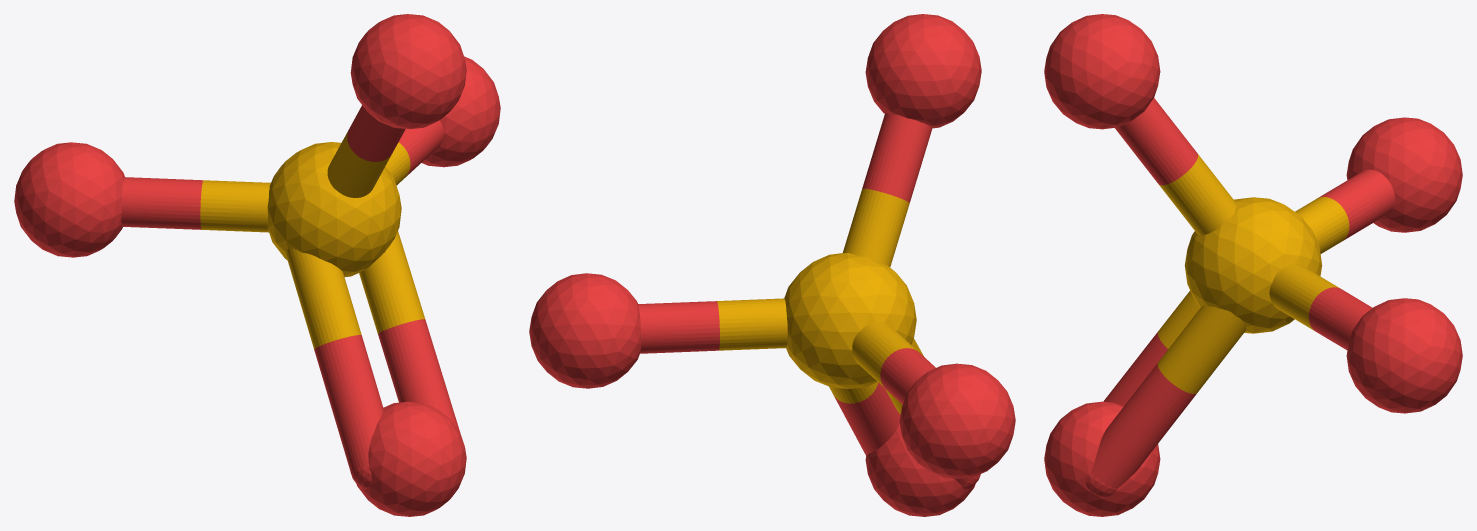
Rendered from phosphate.fbx.
3 views of the same model, side by side, from view 1: azimuth 30°, elevation 25°; view 2: azimuth 150°, elevation 25°; view 3: azimuth 270°, elevation 25° (orthographic).
Parts seen in each view (by area): view 1: Shape_IndexedFaceSet, Shape_IndexedFaceSet.002, Shape_IndexedFaceSet.004, Shape_IndexedFaceSet.001, Shape_IndexedFaceSet.021, Shape_IndexedFaceSet.019, Shape_IndexedFaceSet.017, Shape_IndexedFaceSet.003, Shape_IndexedFaceSet.007, Shape_IndexedFaceSet.015, Shape_IndexedFaceSet.005, Shape_IndexedFaceSet.012 (+3 smaller); view 2: Shape_IndexedFaceSet, Shape_IndexedFaceSet.004, Shape_IndexedFaceSet.003, Shape_IndexedFaceSet.002, Shape_IndexedFaceSet.001, Shape_IndexedFaceSet.010, Shape_IndexedFaceSet.013, Shape_IndexedFaceSet.009, Shape_IndexedFaceSet.012, Shape_IndexedFaceSet.017, Shape_IndexedFaceSet.005, Shape_IndexedFaceSet.007 (+1 smaller); view 3: Shape_IndexedFaceSet, Shape_IndexedFaceSet.002, Shape_IndexedFaceSet.003, Shape_IndexedFaceSet.004, Shape_IndexedFaceSet.001, Shape_IndexedFaceSet.017, Shape_IndexedFaceSet.015, Shape_IndexedFaceSet.013, Shape_IndexedFaceSet.012, Shape_IndexedFaceSet.007, Shape_IndexedFaceSet.010, Shape_IndexedFaceSet.009 (+3 smaller).
Boxes of the visible parts, <box> form: Shape_IndexedFaceSet: <box>267,142,401,276</box>; Shape_IndexedFaceSet.002: <box>350,14,466,129</box>; Shape_IndexedFaceSet.004: <box>14,142,124,257</box>; Shape_IndexedFaceSet.001: <box>356,401,466,516</box>; Shape_IndexedFaceSet.021: <box>314,335,383,471</box>; Shape_IndexedFaceSet.019: <box>285,248,361,349</box>; Shape_IndexedFaceSet.017: <box>378,319,459,431</box>; Shape_IndexedFaceSet.003: <box>422,56,500,167</box>; Shape_IndexedFaceSet.007: <box>121,177,203,229</box>; Shape_IndexedFaceSet.015: <box>359,231,424,333</box>; Shape_IndexedFaceSet.005: <box>200,180,270,232</box>; Shape_IndexedFaceSet.012: <box>327,131,390,197</box>; Shape_IndexedFaceSet: <box>784,253,916,388</box>; Shape_IndexedFaceSet.004: <box>899,363,1015,478</box>; Shape_IndexedFaceSet.003: <box>529,273,640,388</box>; Shape_IndexedFaceSet.002: <box>865,14,981,128</box>; Shape_IndexedFaceSet.001: <box>865,423,975,516</box>; Shape_IndexedFaceSet.010: <box>638,301,719,353</box>; Shape_IndexedFaceSet.013: <box>862,113,932,202</box>; Shape_IndexedFaceSet.009: <box>717,298,787,350</box>; Shape_IndexedFaceSet.012: <box>843,188,909,267</box>; Shape_IndexedFaceSet.017: <box>834,382,900,455</box>; Shape_IndexedFaceSet.005: <box>852,322,918,387</box>; Shape_IndexedFaceSet.007: <box>880,348,935,404</box>; Shape_IndexedFaceSet: <box>1184,197,1322,333</box>; Shape_IndexedFaceSet.002: <box>1044,14,1160,129</box>; Shape_IndexedFaceSet.003: <box>1346,298,1462,413</box>; Shape_IndexedFaceSet.004: <box>1346,117,1462,232</box>; Shape_IndexedFaceSet.001: <box>1044,401,1160,516</box>; Shape_IndexedFaceSet.017: <box>1090,363,1196,488</box>; Shape_IndexedFaceSet.015: <box>1158,306,1246,393</box>; Shape_IndexedFaceSet.013: <box>1115,98,1197,185</box>; Shape_IndexedFaceSet.012: <box>1158,154,1237,235</box>; Shape_IndexedFaceSet.007: <box>1317,169,1395,240</box>; Shape_IndexedFaceSet.010: <box>1308,287,1372,350</box>; Shape_IndexedFaceSet.009: <box>1269,264,1340,330</box>.
Size of the model in its own units: 3276 by 3276 by 2522.
